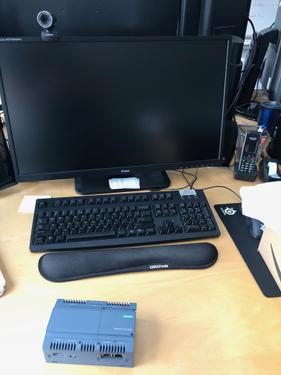device: (43, 299, 137, 368)
